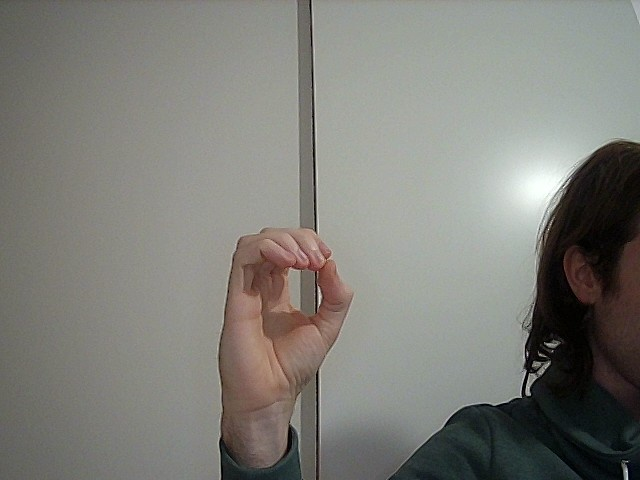o: (204, 222, 357, 404)
